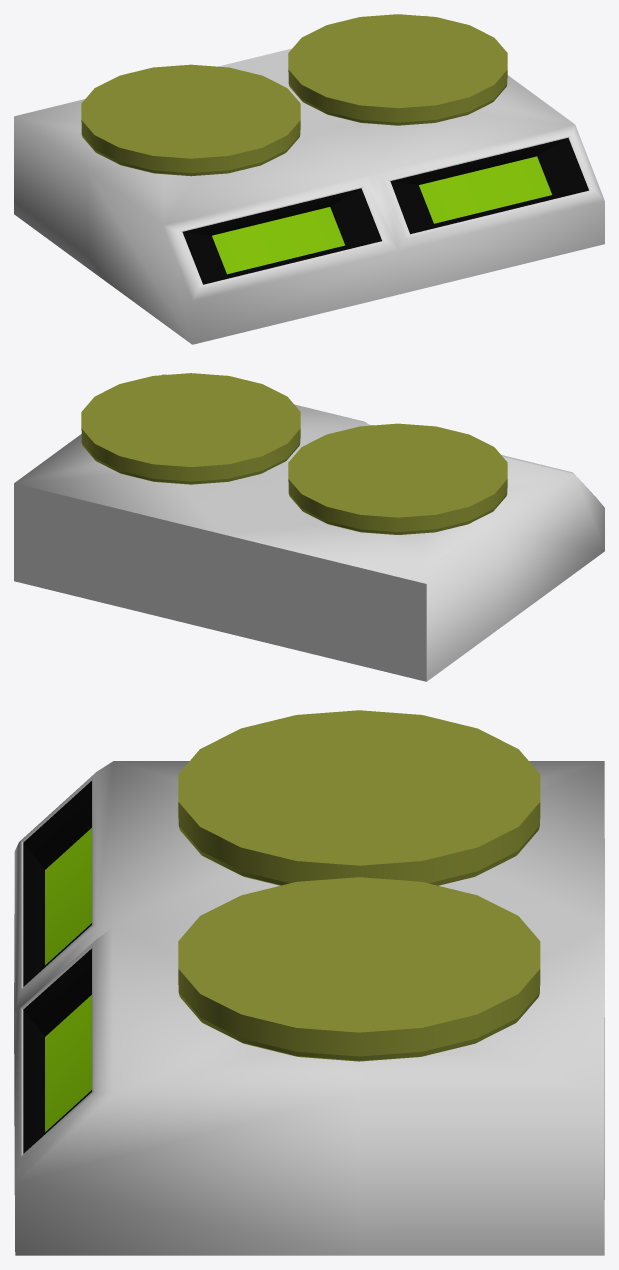
File: Scales_AG 1.FBX
The picture shows the model from 3 angles, top to bottom: view 1: azimuth 30°, elevation 25°; view 2: azimuth 150°, elevation 25°; view 3: azimuth 270°, elevation 25°; orthographic projection. The views are drawn at different scales.
Parts seen in each view (by area): view 1: Scales_Base, Right_Pan, Left_Pan; view 2: Scales_Base, Right_Pan, Left_Pan; view 3: Scales_Base, Right_Pan, Left_Pan.
Part boxes in pixels (x1,y1,x2,y2): Scales_Base: (14, 15, 604, 344); Right_Pan: (288, 14, 507, 125); Left_Pan: (81, 64, 300, 176); Scales_Base: (14, 374, 604, 681); Right_Pan: (81, 373, 300, 484); Left_Pan: (288, 423, 507, 534); Scales_Base: (14, 761, 604, 1255); Right_Pan: (178, 877, 540, 1061); Left_Pan: (178, 710, 540, 885).
Bounding box in the file's own units: 15.7 × 5.17 × 11.78.
